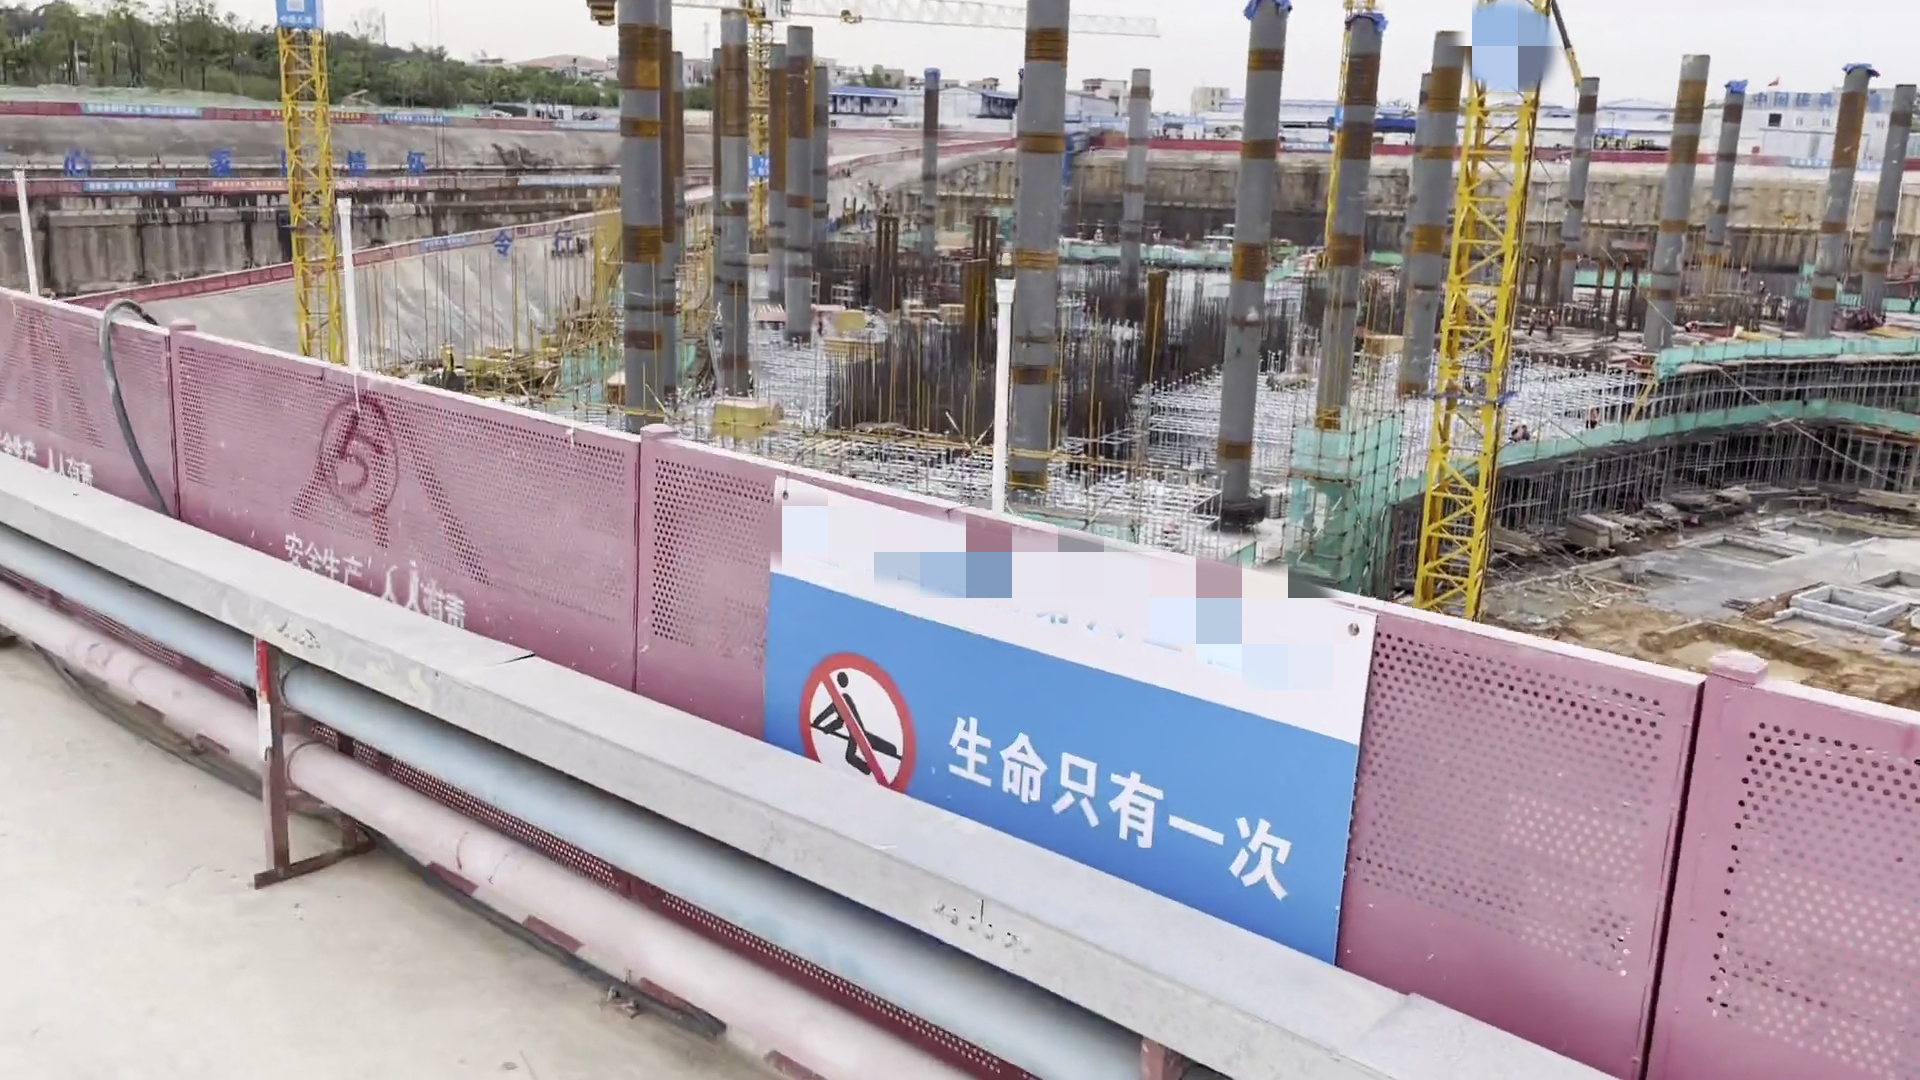brick: (1778, 587, 1907, 650), (1724, 534, 1793, 556)
fence: (1072, 518, 1596, 1080), (665, 435, 1096, 938), (1567, 637, 1920, 1080), (338, 375, 707, 702), (3, 287, 349, 605)
slogan: (746, 459, 1367, 984), (1724, 80, 1920, 131), (261, 1, 340, 36), (1327, 95, 1354, 146), (742, 150, 781, 181)
wood: (705, 397, 785, 436), (825, 334, 882, 357), (600, 371, 626, 410)
